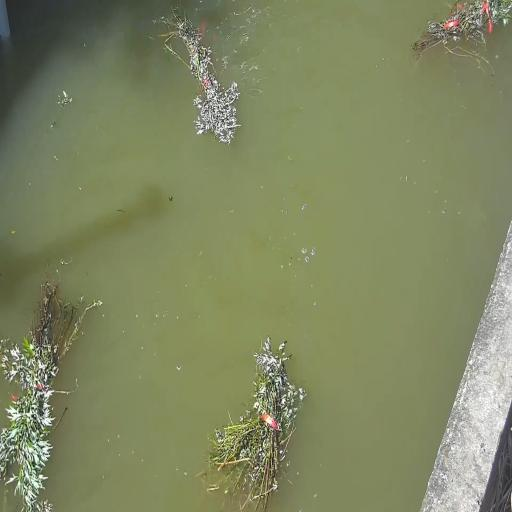twig: (0, 262, 100, 512), (200, 333, 306, 512), (158, 3, 242, 145), (410, 1, 508, 73)
